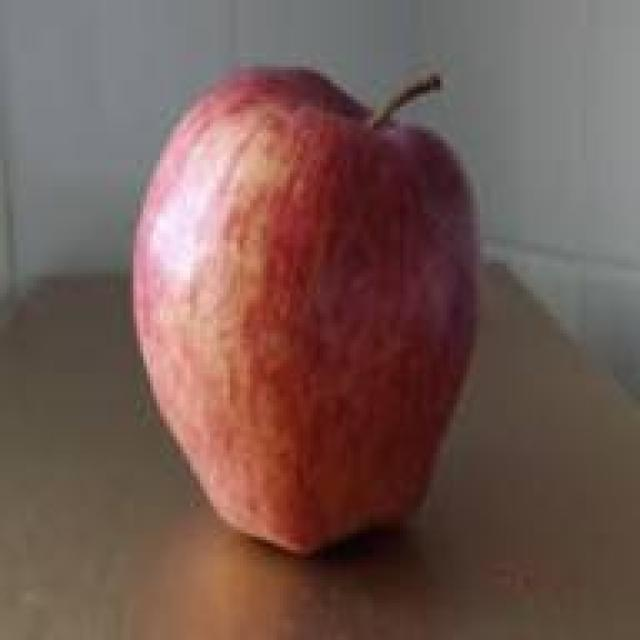apple: (140, 73, 477, 577)
